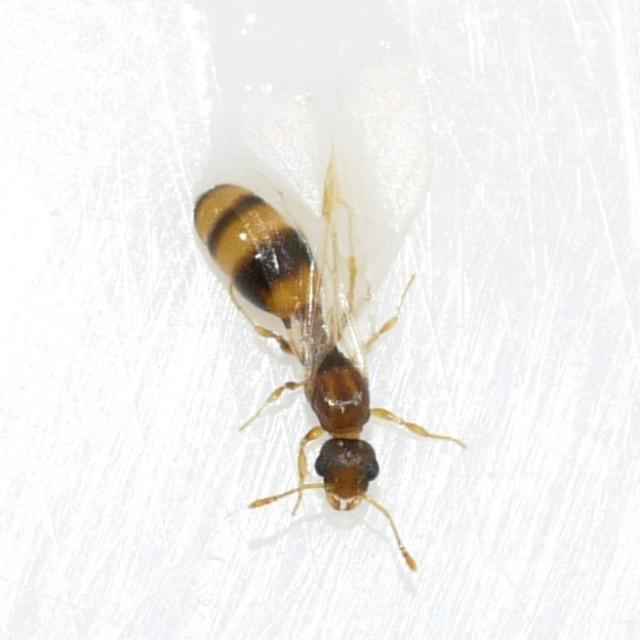Temnothorax: (176, 141, 460, 547)
